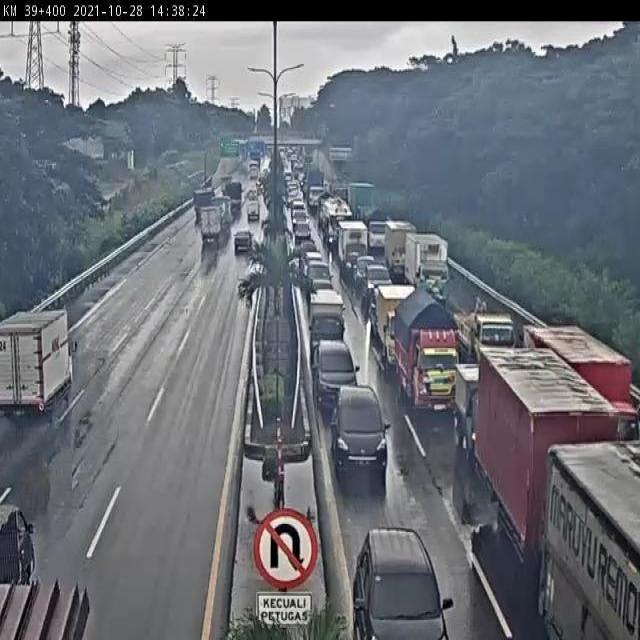big truck: (479, 339, 607, 545), (544, 434, 640, 640), (8, 308, 67, 412), (455, 292, 515, 343)
car: (345, 522, 456, 640), (328, 382, 401, 478), (316, 336, 362, 436), (310, 294, 350, 338), (233, 224, 256, 253), (366, 266, 395, 286)
small truck: (400, 290, 459, 414), (378, 284, 419, 364), (407, 234, 455, 302), (455, 361, 487, 456), (385, 222, 425, 274), (200, 208, 224, 247)
